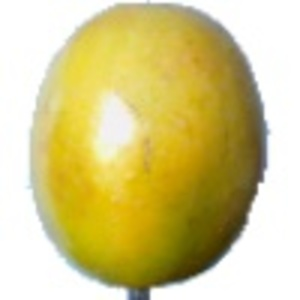maracujá: (25, 2, 271, 300)
